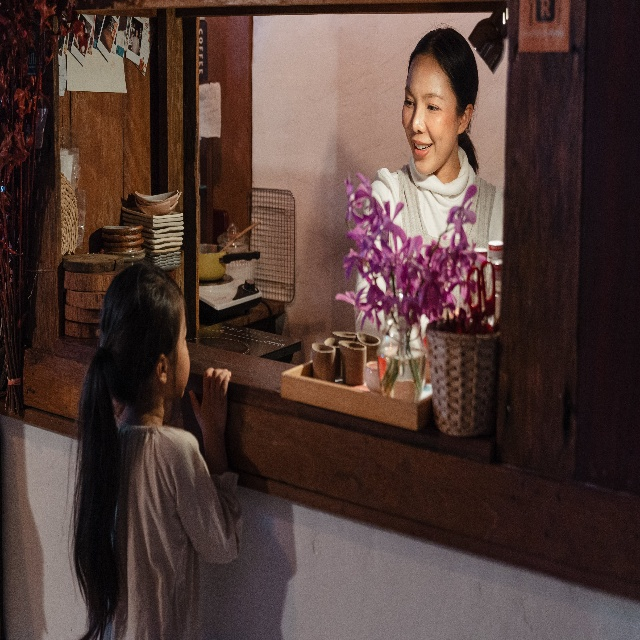Sin_guantes: (188, 366, 231, 433)
